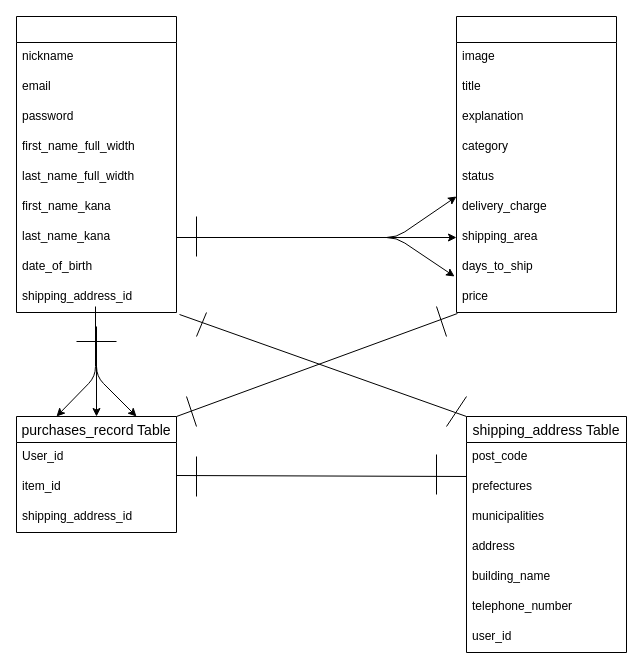
This 643x669 diagram has some shape labels left out. The box of each missing label's shape, as (x1, y1, x2, y2) in pixels:
Items Table: (456, 16, 616, 312)
Users Table: (16, 16, 176, 312)
